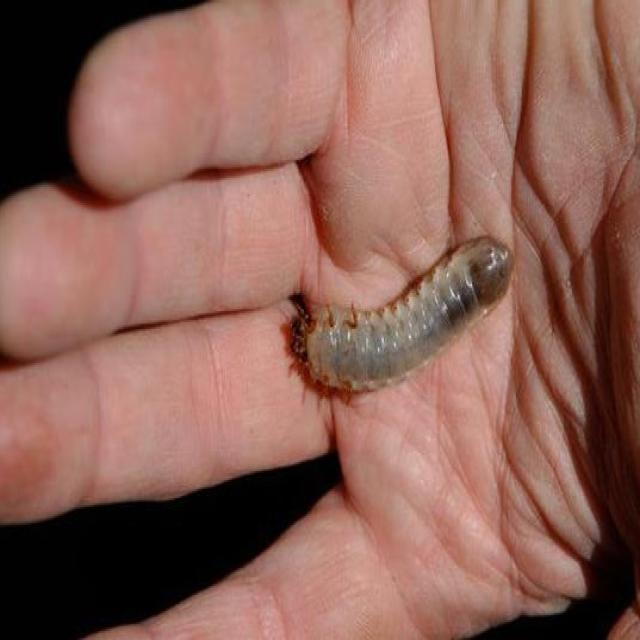grub: (277, 233, 512, 402)
